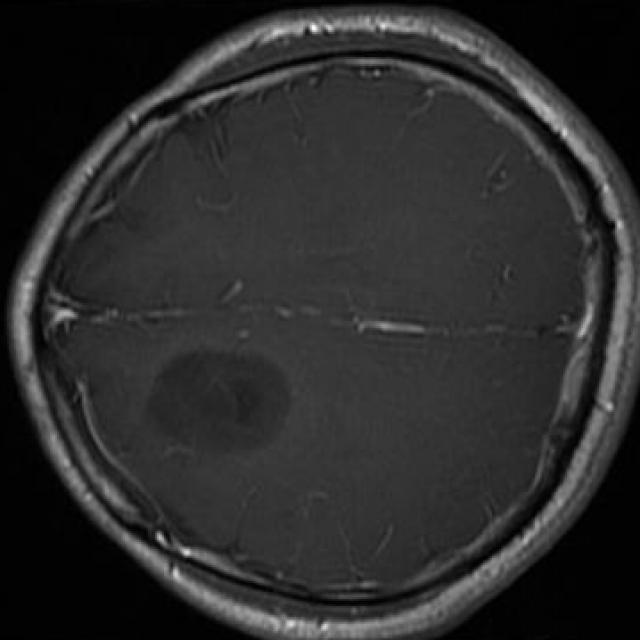glioma: (148, 351, 292, 455)
